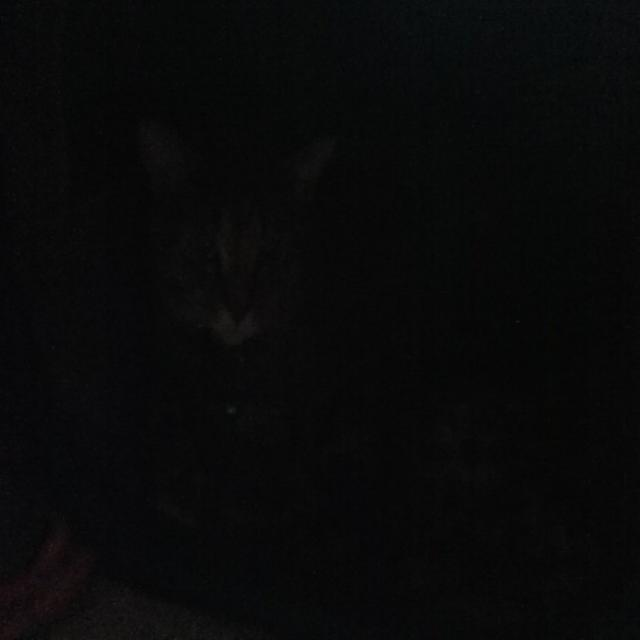Cat: (127, 89, 607, 636)
